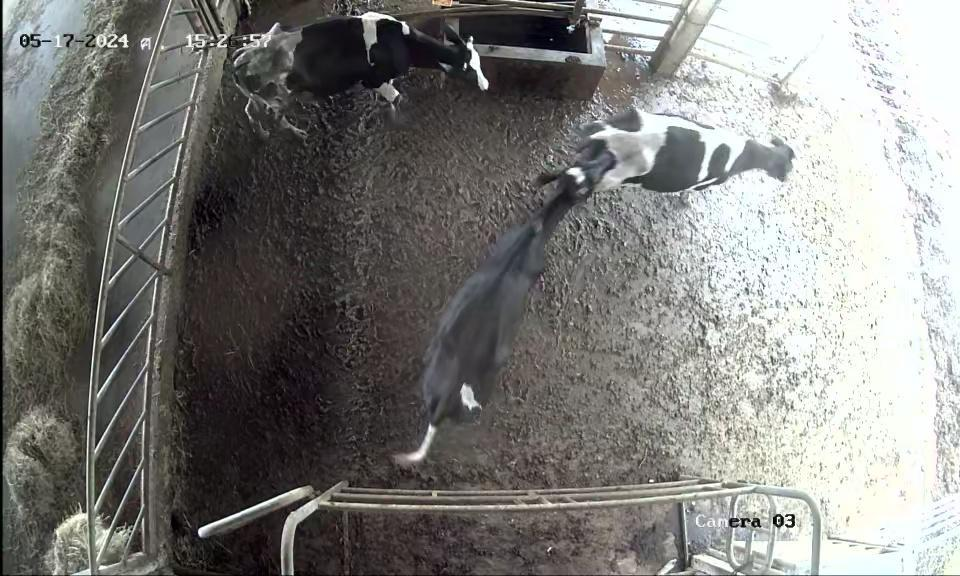stand: (393, 148, 633, 473), (226, 7, 496, 142), (572, 94, 802, 214)
